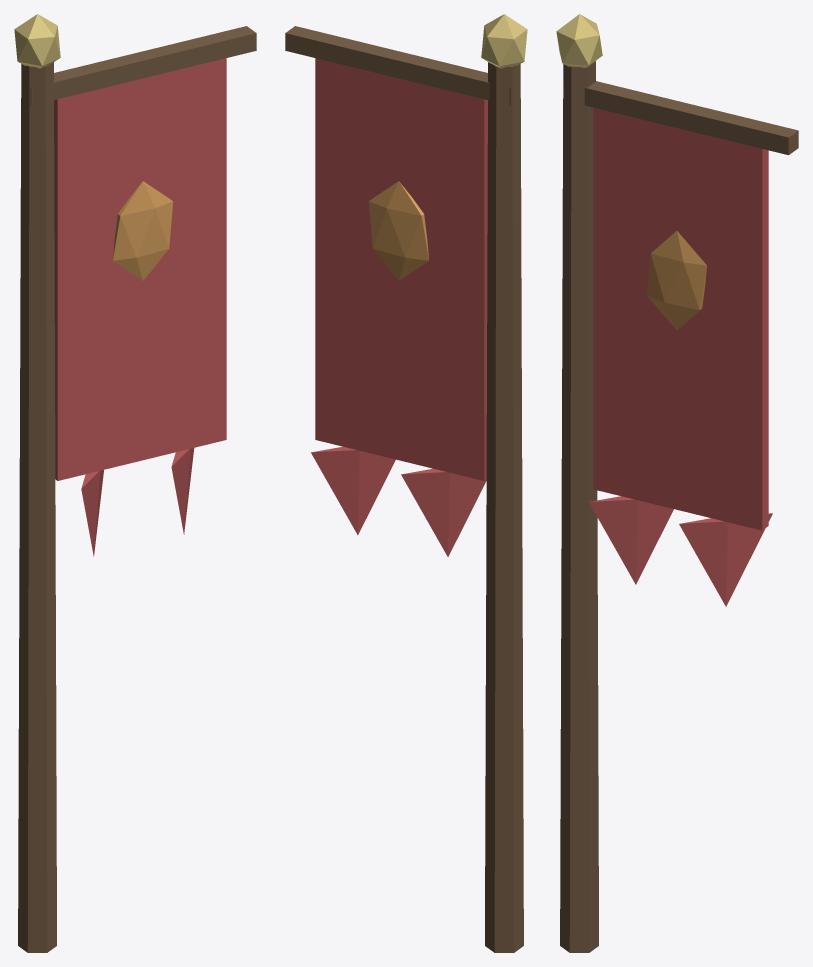
Rendered from banner.glb.
3 renders of one model, left to right at view 1: azimuth 30°, elevation 25°; view 2: azimuth 150°, elevation 25°; view 3: azimuth 330°, elevation 25°, orthographic.
Parts seen in each view (by area): view 1: banner; view 2: banner; view 3: banner.
Boxes of the visible parts, <box> form: banner: <box>14,14,256,952</box>; banner: <box>285,14,527,952</box>; banner: <box>556,14,798,952</box>.
Size of the model in its own units: 0.8314 by 3.16 by 0.2122.
